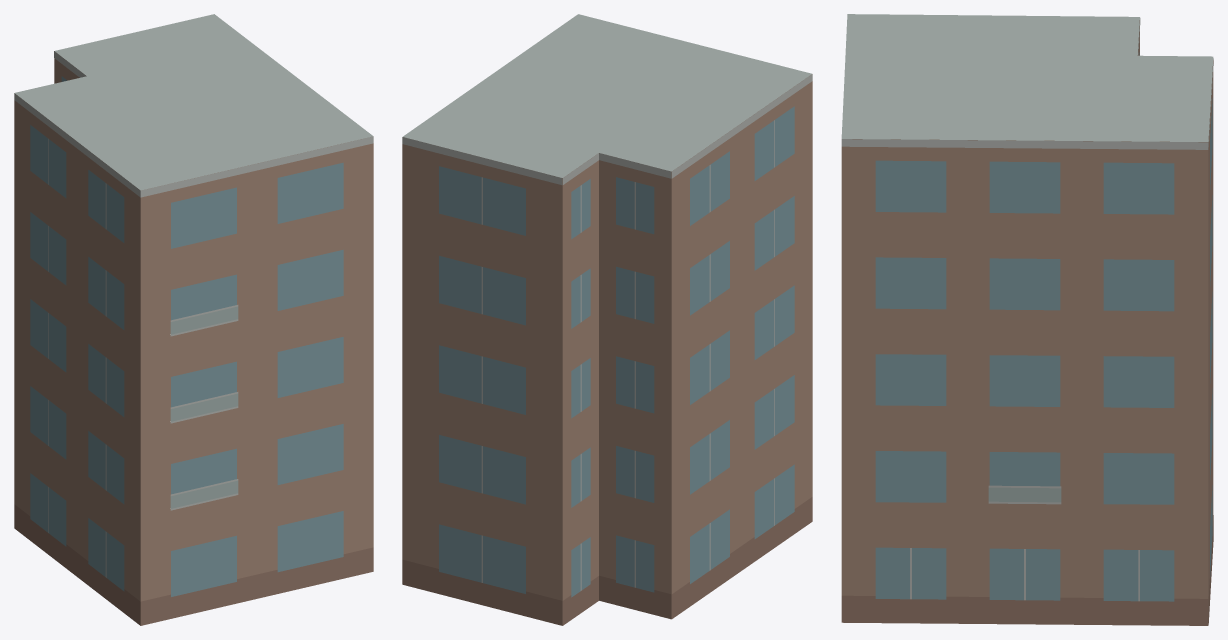
The model's file is survey-upis-32743871.glb.
The picture shows the model from 3 angles, left to right: view 1: azimuth 30°, elevation 25°; view 2: azimuth 150°, elevation 25°; view 3: azimuth 270°, elevation 25°; orthographic projection. The views are drawn at different scales.
Parts seen in each view (by area): view 1: survey-upis-32743871.tmp; view 2: survey-upis-32743871.tmp; view 3: survey-upis-32743871.tmp.
Part boxes in pixels (bbox=[...]): survey-upis-32743871.tmp: bbox=[14, 14, 373, 625]; survey-upis-32743871.tmp: bbox=[402, 14, 812, 625]; survey-upis-32743871.tmp: bbox=[841, 14, 1213, 625].
Size of the model in its own units: 8.59 by 15.1 by 10.53.
